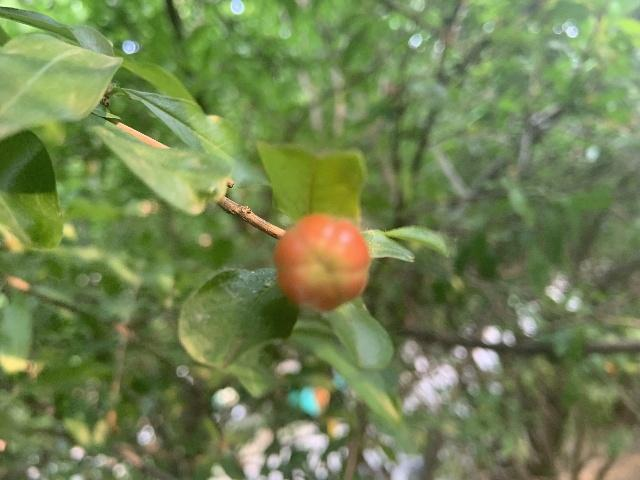bud: (274, 214, 369, 312)
